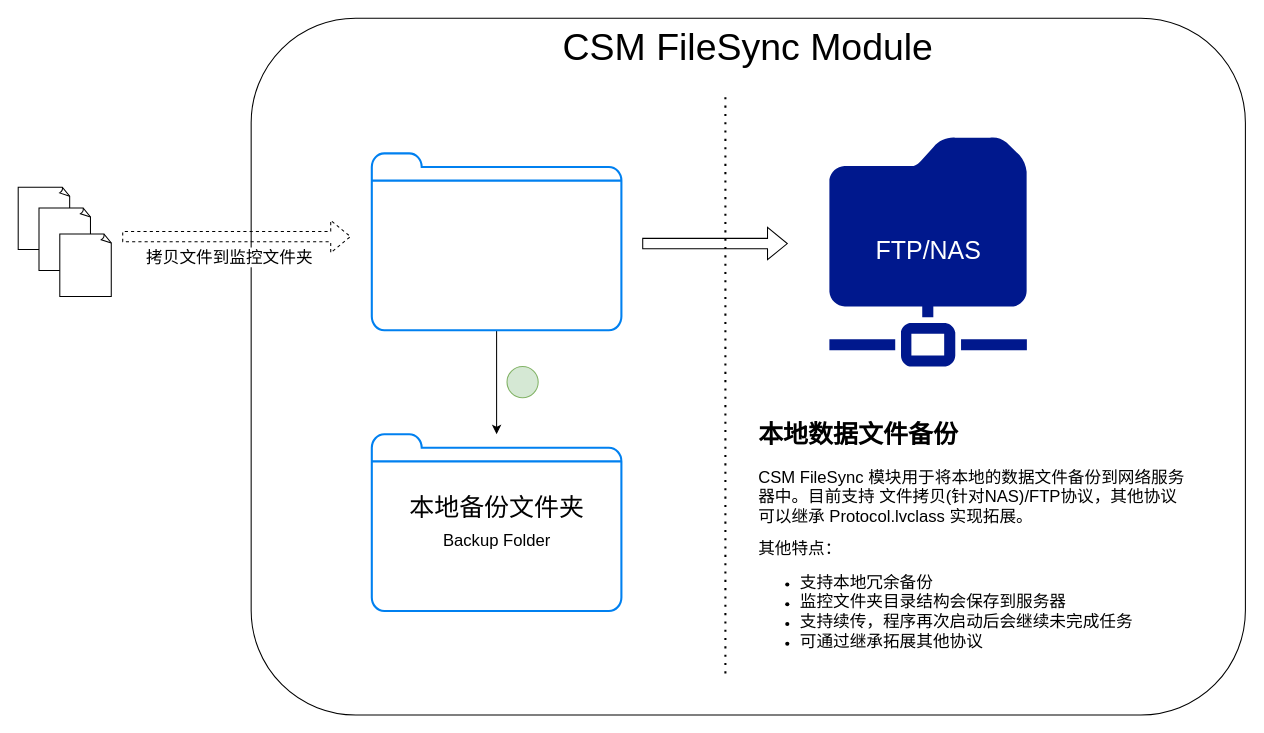
This 1264x733 diagram has some shape labels left out. Here are the shapes that lost their labels. From the top down, the box of each, then its label:
(370, 152, 622, 331): 监控文件夹 Monitoring Folder
(506, 365, 538, 398): 配置控制：Enable Backup
